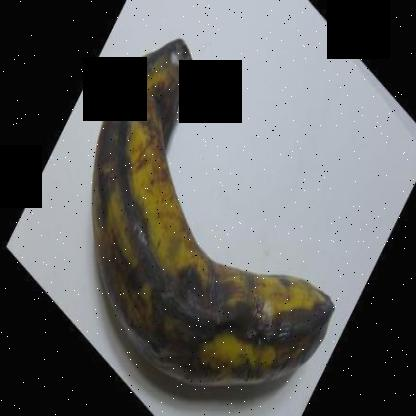overripe: (84, 24, 362, 415)
rotten: (145, 8, 200, 116)
